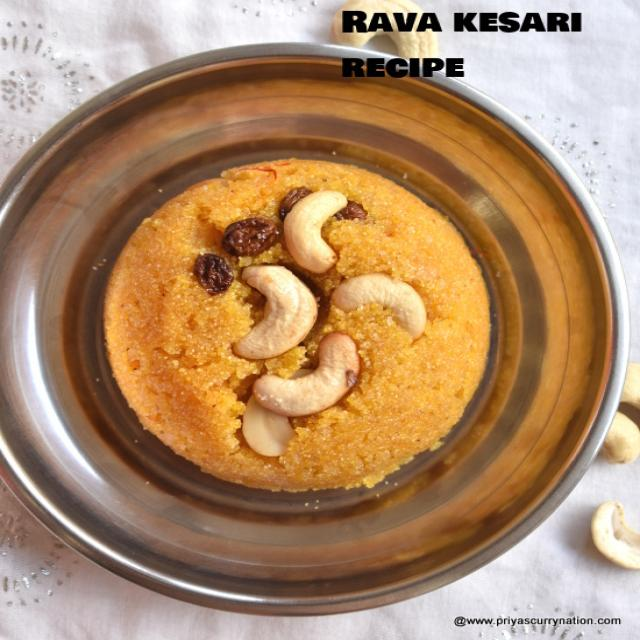kesari bath: (89, 142, 506, 505)
